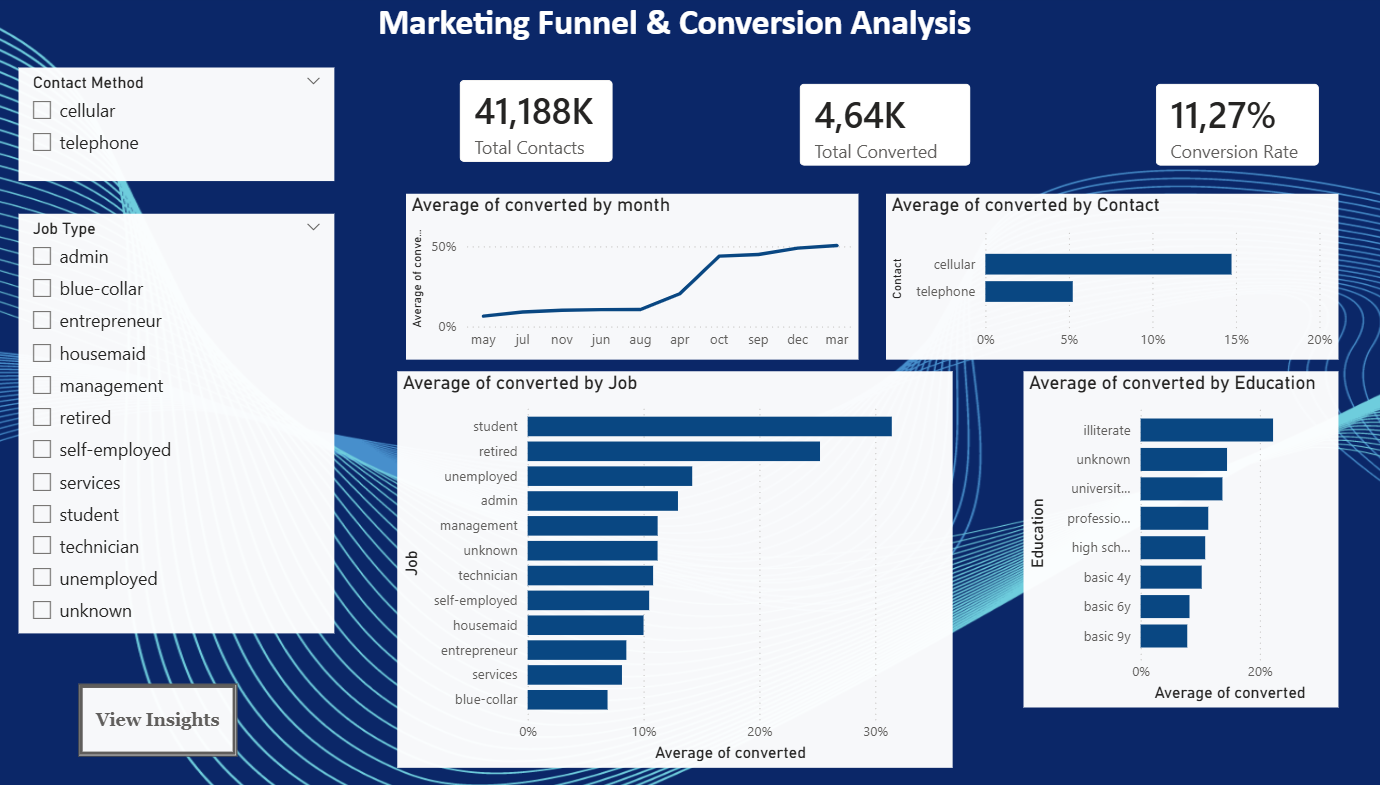

Layout of this report page (visuals, bound fields, positions):
{"tool":"powerbi","page":{"name":"Analysis","canvas":[1280,720],"ordinal":0},"visuals":[{"type":"textbox","box":[352.7,0,572.2,49.4],"z":0},{"type":"cardVisual","fields":{"Data":["CountNonNull(bank_marketing_CLEANED.converted)"]},"box":[428.3,59.7,172.4,108.2],"z":1000},{"type":"cardVisual","fields":{"Data":["Sum(bank_marketing_CLEANED.converted)"]},"box":[734.9,63.1,188.2,108.2],"z":2000},{"type":"cardVisual","fields":{"Data":["bank_marketing_CLEANED.Conversion Rate"]},"box":[1056.1,63.1,181.5,108.2],"z":2001},{"type":"barChart","fields":{"Category":["bank_marketing_CLEANED.contact"],"Y":["Avg(bank_marketing_CLEANED.converted)"]},"box":[829.6,179.2,408,149.9],"z":2002},{"type":"lineChart","fields":{"Category":["bank_marketing_CLEANED.month"],"Y":["Avg(bank_marketing_CLEANED.converted)"]},"box":[396.7,179.2,408,149.9],"z":2003},{"type":"barChart","fields":{"Category":["bank_marketing_CLEANED.job"],"Y":["Avg(bank_marketing_CLEANED.converted)"]},"box":[388.9,339.3,500.4,357.3],"z":2004},{"type":"barChart","fields":{"Category":["bank_marketing_CLEANED.education"],"Y":["Avg(bank_marketing_CLEANED.converted)"]},"box":[953.5,339.3,284,303.2],"z":2005},{"type":"slicer","fields":{"Values":["bank_marketing_CLEANED.contact"]},"box":[47.3,65.4,285.2,102.6],"z":2006},{"type":"slicer","fields":{"Values":["bank_marketing_CLEANED.job"]},"box":[47.3,197.2,285.2,378.7],"z":2007},{"type":"actionButton","box":[101.4,621,143.1,65.4],"z":2008}]}

Visuals, with their boxes in screenshot pixels (x1, y1, x2, y2), scaled from the page's 1280x720 canvas onto the 1380x785 screenshot:
textbox: detection(380, 0, 997, 54)
cardVisual - CountNonNull(bank_marketing_CLEANED.converted): detection(462, 65, 648, 183)
cardVisual - Sum(bank_marketing_CLEANED.converted): detection(792, 69, 995, 187)
cardVisual - bank_marketing_CLEANED.Conversion Rate: detection(1139, 69, 1334, 187)
barChart - bank_marketing_CLEANED.contact x Avg(bank_marketing_CLEANED.converted): detection(894, 195, 1334, 359)
lineChart - bank_marketing_CLEANED.month x Avg(bank_marketing_CLEANED.converted): detection(428, 195, 868, 359)
barChart - bank_marketing_CLEANED.job x Avg(bank_marketing_CLEANED.converted): detection(419, 370, 959, 759)
barChart - bank_marketing_CLEANED.education x Avg(bank_marketing_CLEANED.converted): detection(1028, 370, 1334, 701)
slicer - bank_marketing_CLEANED.contact: detection(51, 71, 358, 183)
slicer - bank_marketing_CLEANED.job: detection(51, 215, 358, 628)
actionButton: detection(109, 677, 264, 748)
